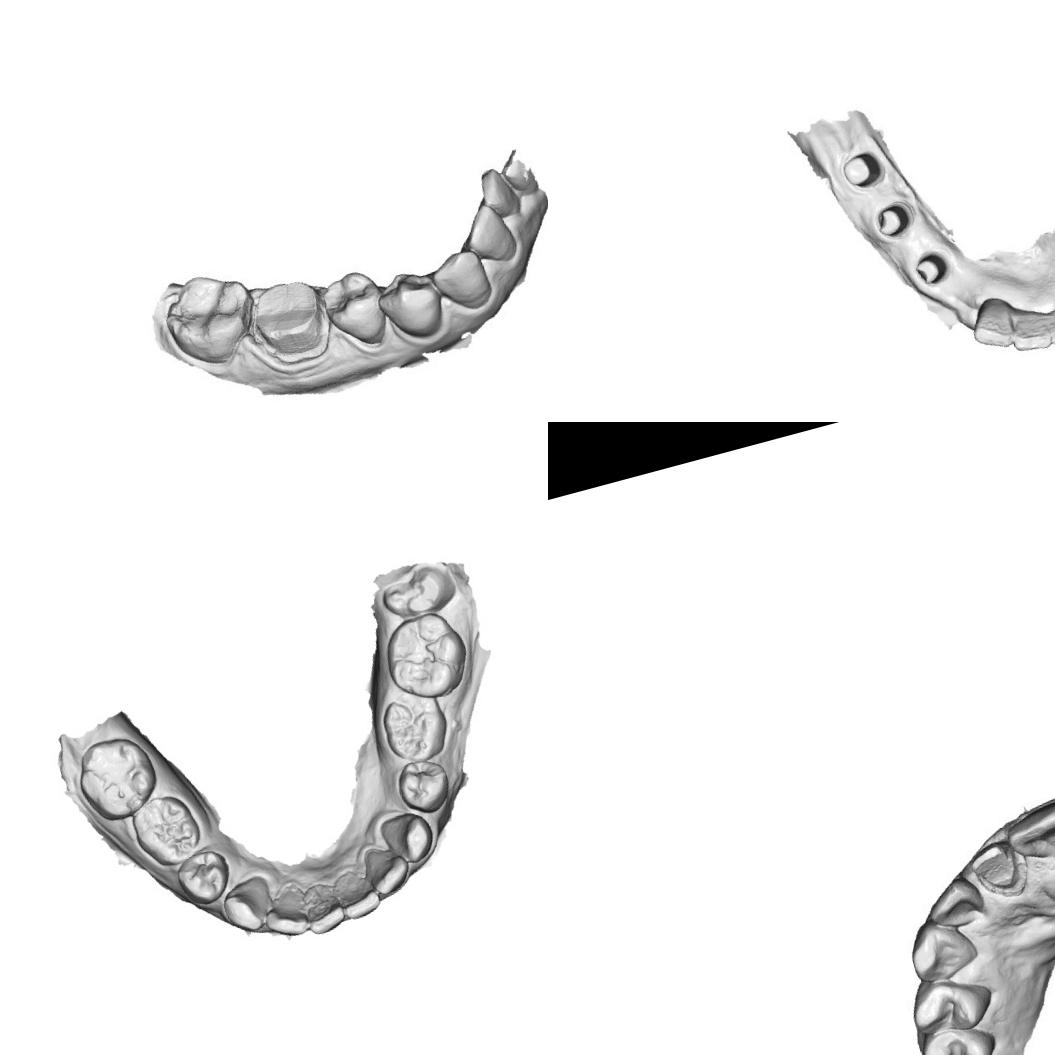abutment: (835, 144, 888, 196), (906, 242, 954, 290), (866, 198, 914, 244)
canine: (904, 910, 980, 986), (432, 247, 494, 314), (377, 805, 440, 870), (216, 874, 274, 940)
crown: (242, 267, 340, 373), (962, 832, 1029, 902)
incisor: (463, 199, 524, 274), (924, 874, 991, 936), (476, 162, 536, 226), (256, 884, 316, 946), (324, 865, 385, 924), (1005, 795, 1055, 865), (963, 292, 1017, 356), (361, 843, 416, 902), (298, 876, 350, 938), (1003, 305, 1055, 360), (1042, 302, 1055, 348)
molar: (374, 604, 480, 708), (68, 727, 166, 827), (162, 269, 258, 365), (124, 786, 210, 874), (370, 554, 460, 627), (374, 688, 456, 767)
premolar: (906, 960, 996, 1044), (320, 267, 398, 357), (381, 266, 450, 344), (168, 842, 238, 912), (390, 752, 460, 820), (913, 1008, 1004, 1055)
